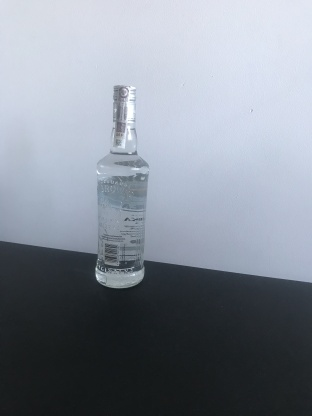nakretka: (110, 80, 138, 126), (110, 81, 138, 126)
